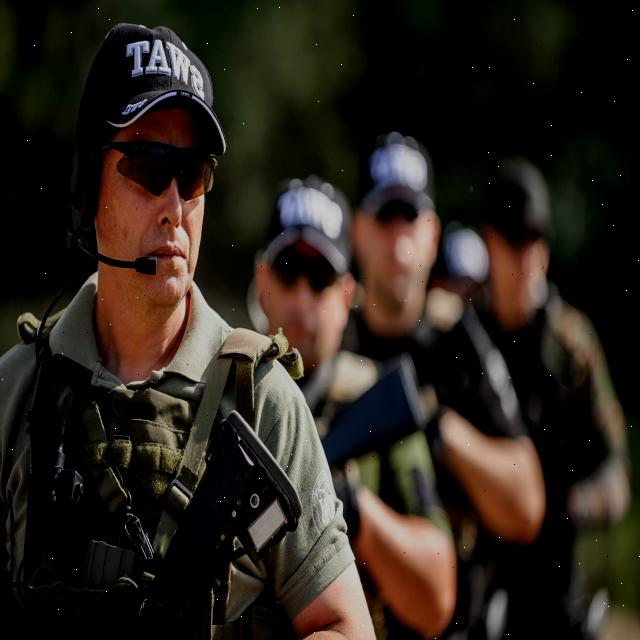police: (0, 0, 355, 640)
